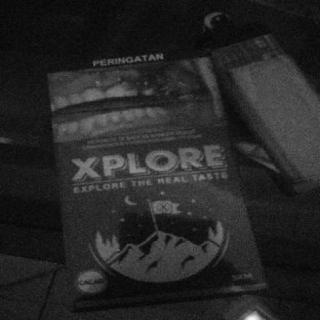objects: (48, 57, 267, 311)
